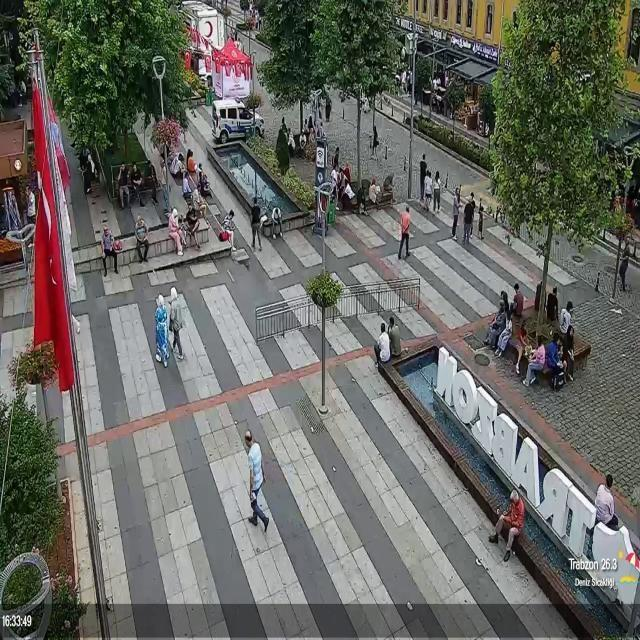Van: (210, 96, 266, 142)
